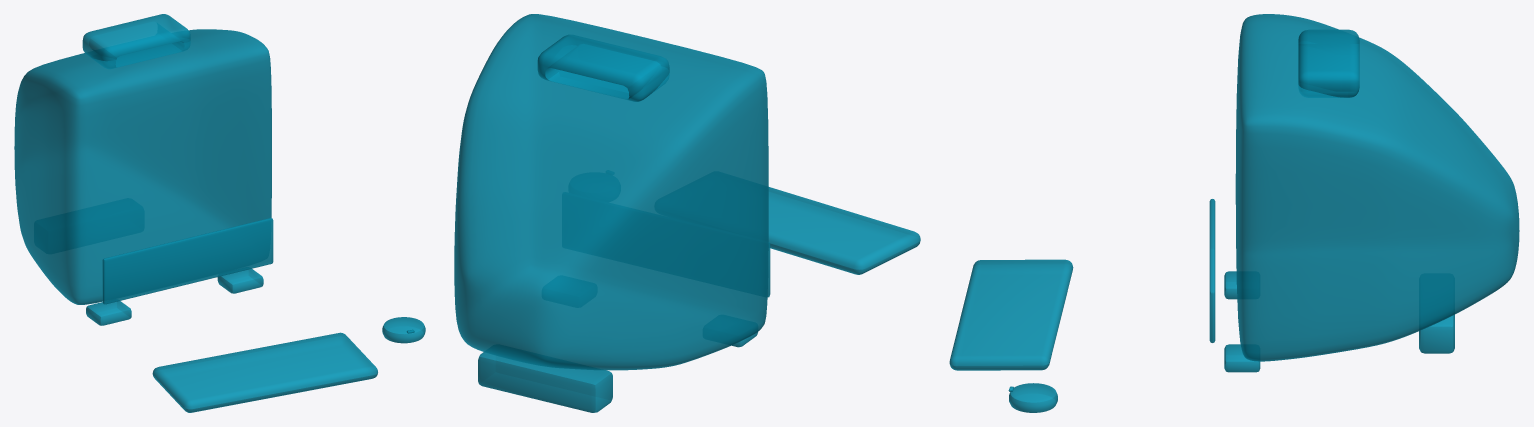
File: shell.glb
3 renders of one model, left to right at view 1: azimuth 30°, elevation 25°; view 2: azimuth 150°, elevation 25°; view 3: azimuth 270°, elevation 25°, orthographic. The views are drawn at different scales.
Visible parts, largest first — view 1: Shell; view 2: Shell; view 3: Shell.
Boxes of the visible parts, <box> form: Shell: <box>14,14,425,412</box>; Shell: <box>454,14,920,412</box>; Shell: <box>949,14,1519,412</box>.
Bounding box in the file's own units: 1.82 × 1.63 × 3.01.
